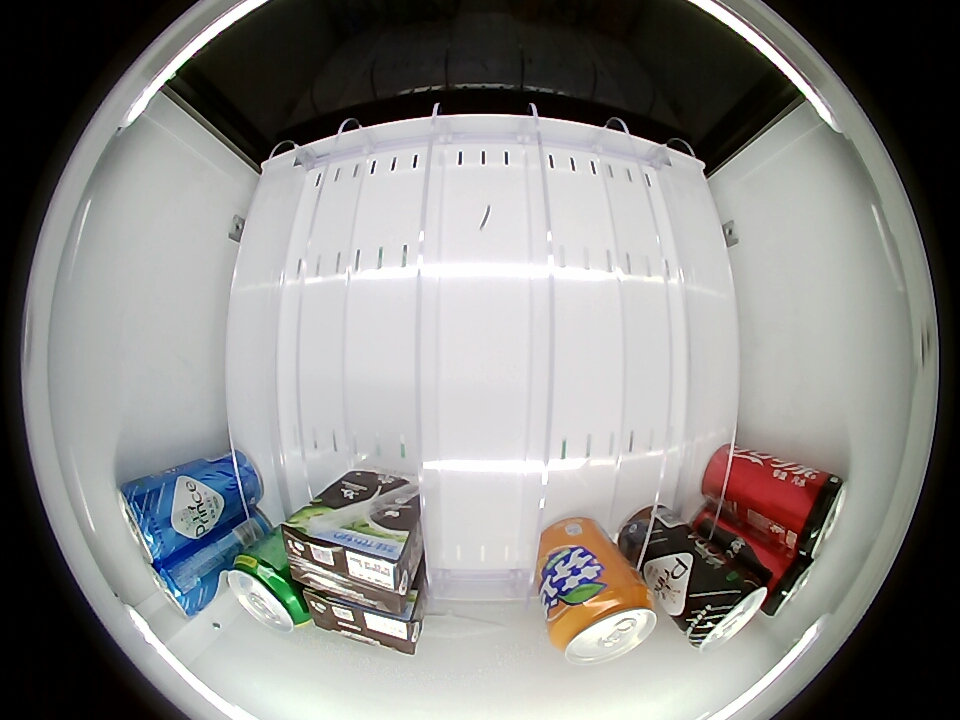fenda: (549, 582, 657, 665)
lingdukele: (776, 467, 848, 561), (763, 553, 817, 618)
qingdaowangzi-1: (677, 560, 770, 652)
qingdaowangzi-2: (116, 474, 183, 565), (144, 553, 217, 617)
weitanai2: (282, 510, 417, 609), (307, 590, 424, 655)
xuebi2: (226, 552, 311, 633)
